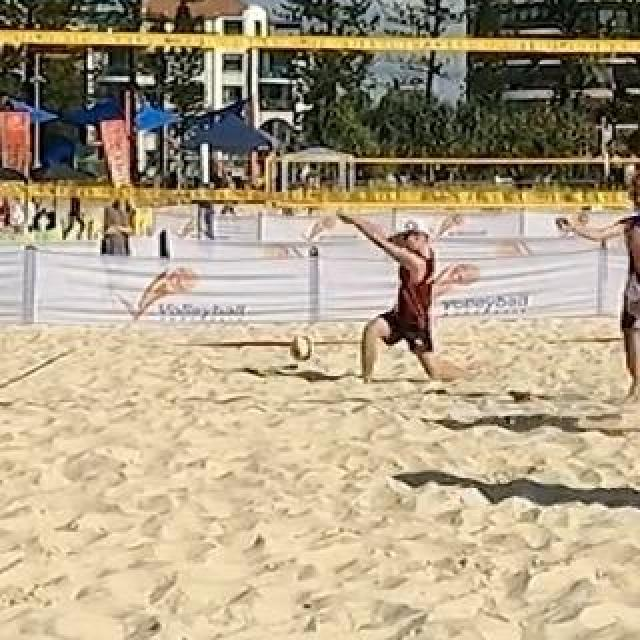volleyball: (290, 337, 312, 361)
